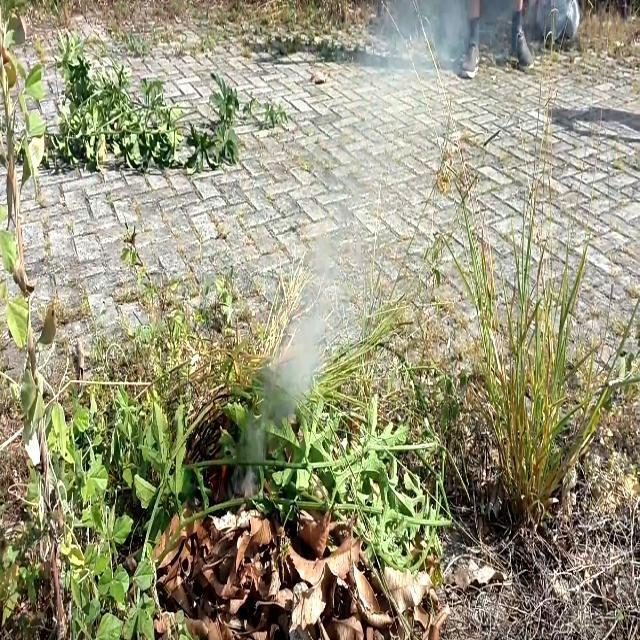Smoke: (251, 222, 354, 466)
